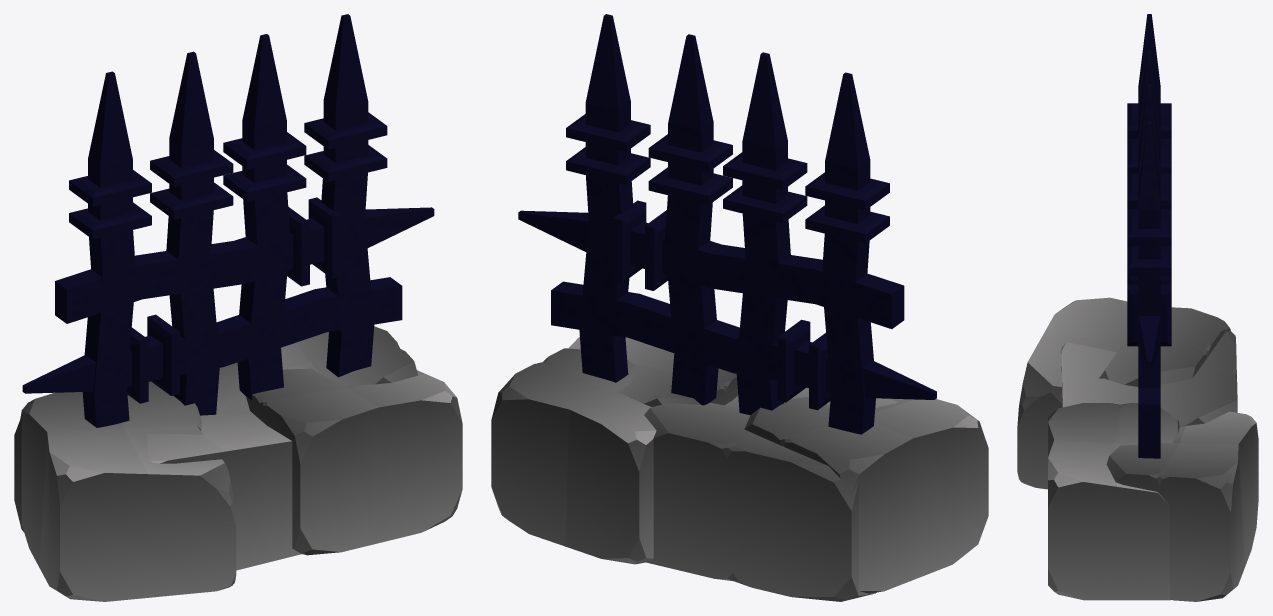
Rendered from Fence.fbx.
3 views of the same model, side by side, from view 1: azimuth 30°, elevation 25°; view 2: azimuth 150°, elevation 25°; view 3: azimuth 270°, elevation 25° (orthographic). The views are drawn at different scales.
Visible parts, largest first — view 1: Cube.013, Cube.011, Cube.004, Cube.007, Cube.006, Cube.003, Cube.012, Cube.005, Cube.008, Cube.014; view 2: Cube.012, Cube.014, Cube.013, Cube.005, Cube.006, Cube.008, Cube.003, Cube.004, Cube.007, Cube.011; view 3: Cube.011, Cube.014, Cube.013, Cube.012, Cube.005, Cube.007, Cube.006, Cube.004, Cube.003, Cube.008.
Part boxes in pixels (x1,y1,x2,y2): Cube.013: (20, 381, 236, 601); Cube.011: (245, 368, 462, 555); Cube.004: (69, 71, 151, 427); Cube.007: (55, 197, 434, 323); Cube.006: (223, 34, 306, 399); Cube.003: (150, 51, 233, 415); Cube.012: (14, 362, 301, 570); Cube.005: (304, 14, 387, 377); Cube.008: (22, 277, 402, 403); Cube.014: (281, 326, 418, 386); Cube.012: (644, 387, 898, 601); Cube.014: (491, 348, 656, 564); Cube.013: (744, 397, 988, 593); Cube.005: (566, 14, 650, 382); Cube.006: (648, 34, 732, 405); Cube.008: (551, 281, 936, 410); Cube.003: (723, 52, 807, 415); Cube.004: (805, 72, 889, 434); Cube.007: (518, 200, 904, 328); Cube.011: (568, 336, 738, 406); Cube.011: (1048, 403, 1179, 600); Cube.014: (1106, 411, 1258, 601); Cube.013: (1017, 297, 1230, 489); Cube.012: (1061, 331, 1237, 427); Cube.005: (1127, 121, 1171, 458); Cube.007: (1127, 276, 1171, 367); Cube.006: (1127, 84, 1171, 210); Cube.004: (1127, 14, 1171, 140); Cube.003: (1127, 51, 1171, 173); Cube.008: (1138, 388, 1160, 436).
Bounding box in the file's own units: 203 × 225 × 109.
Materials: 1 (1 with a texture image).
